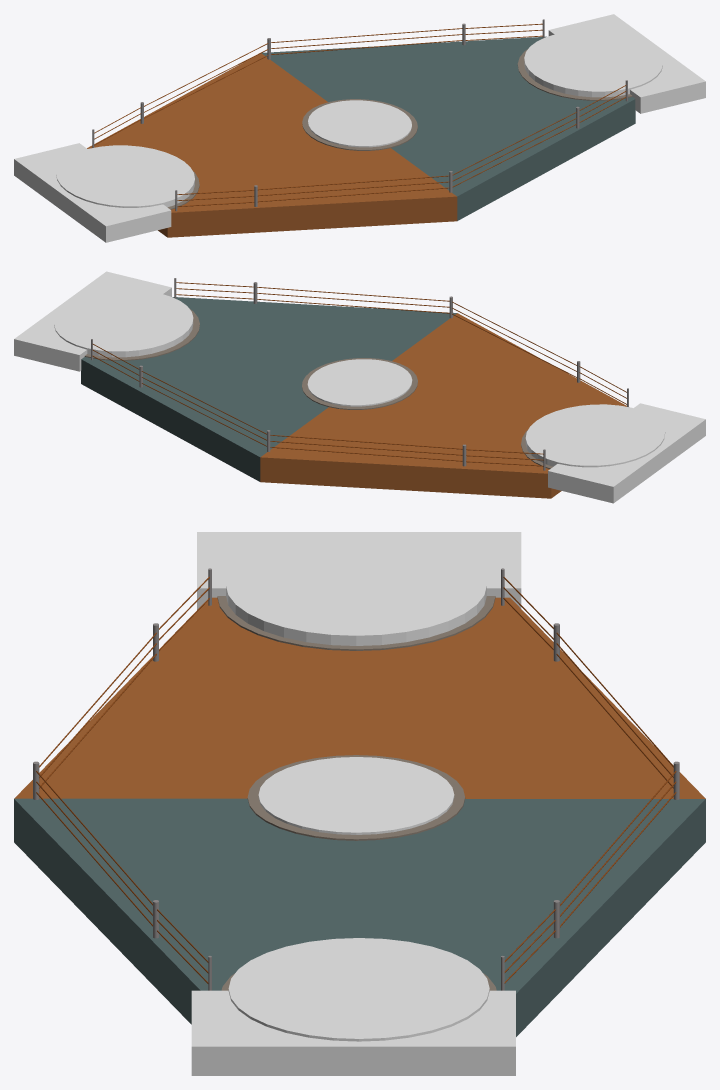
File: ProArena.fbx
3 renders of one model, top to bottom at view 1: azimuth 30°, elevation 25°; view 2: azimuth 150°, elevation 25°; view 3: azimuth 270°, elevation 25°, orthographic. The views are drawn at different scales.
Visible parts, largest first — view 1: Cube.001, Cube, Cylinder.035, Cylinder.032, Cube.002, Cylinder.031, Cube.003, Cylinder.030, Cylinder.034; view 2: Cube.001, Cube, Cylinder.035, Cylinder.032, Cube.002, Cylinder.031, Cube.003, Cylinder.030, Cylinder.034, Cylinder.009; view 3: Cube, Cube.001, Cylinder.032, Cylinder.035, Cube.003, Cylinder.031, Cube.002, Cylinder.030, Cylinder.033, Cylinder.009.
Boxes of the visible parts, x1,y1,x2,y2 form: Cube.001: [87, 53, 457, 237]; Cube: [261, 36, 635, 220]; Cylinder.035: [524, 30, 662, 97]; Cylinder.032: [56, 145, 194, 207]; Cube.002: [14, 143, 171, 242]; Cylinder.031: [308, 100, 411, 147]; Cube.003: [548, 14, 705, 113]; Cylinder.030: [302, 99, 417, 150]; Cylinder.034: [517, 48, 632, 100]; Cube.001: [260, 313, 626, 498]; Cube: [81, 297, 456, 481]; Cylinder.035: [54, 290, 193, 357]; Cylinder.032: [525, 404, 665, 467]; Cube.002: [548, 403, 705, 503]; Cylinder.031: [307, 359, 412, 406]; Cube.003: [14, 271, 171, 371]; Cylinder.030: [302, 358, 417, 409]; Cylinder.034: [84, 308, 199, 360]; Cylinder.009: [139, 282, 580, 466]; Cube: [14, 798, 705, 1036]; Cube.001: [14, 597, 705, 798]; Cylinder.032: [226, 534, 486, 645]; Cylinder.035: [228, 938, 489, 1041]; Cube.003: [191, 990, 515, 1075]; Cylinder.031: [258, 757, 454, 834]; Cube.002: [197, 532, 521, 609]; Cylinder.030: [247, 755, 465, 840]; Cylinder.033: [217, 596, 495, 650]; Cylinder.009: [153, 623, 559, 938].
Size of the model in its own units: 5227 by 376 by 2970.
